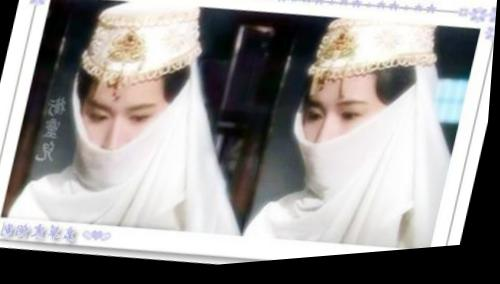WRONG: (289, 83, 400, 208), (67, 83, 172, 197)
